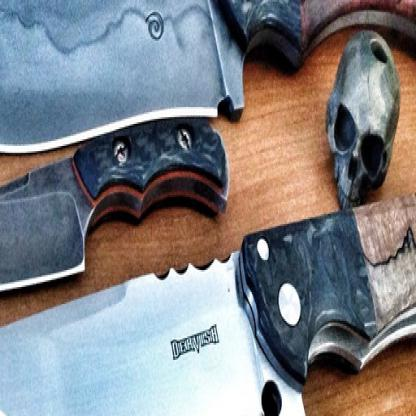knife: (0, 0, 415, 392), (0, 178, 415, 414), (0, 112, 236, 301)
